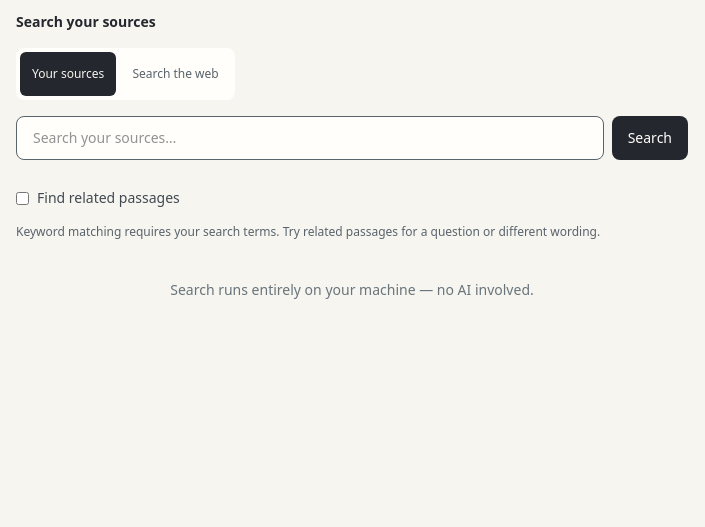
Test: SearchPanel shows a friendly line when a search rejects with raw loc payload
Type "cells" into the search field with placeholder "Search your sources…" at (310, 138), box [16,116,604,160]
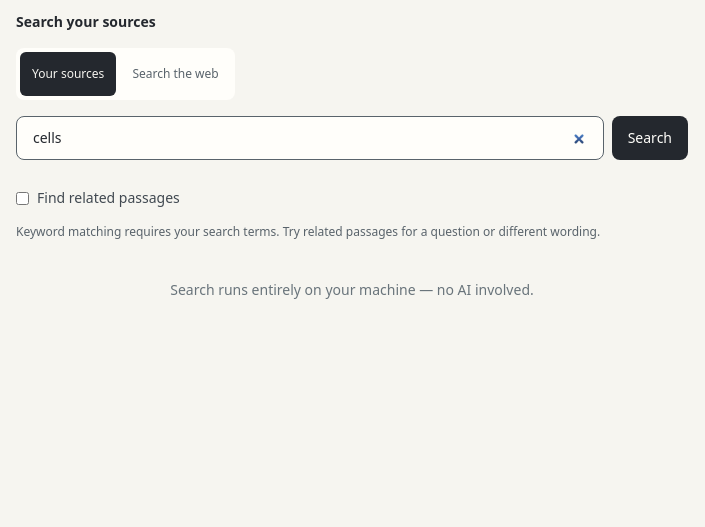
Click the button with aria-label "submit search" at (650, 138), box [612,116,688,160]
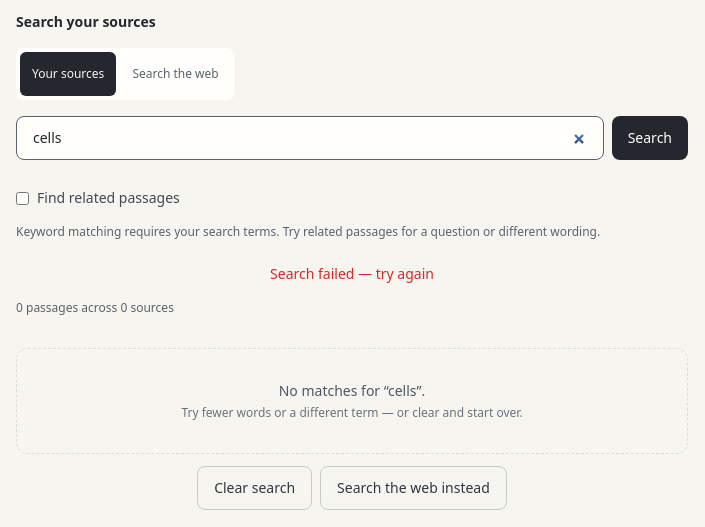
Expected: the text "Search failed — try again" is shown, [270,264,434,283]
